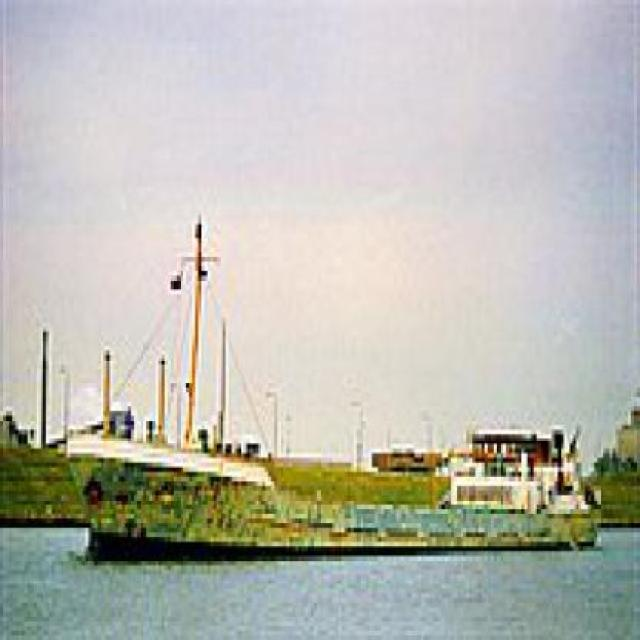container: (56, 300, 604, 562)
